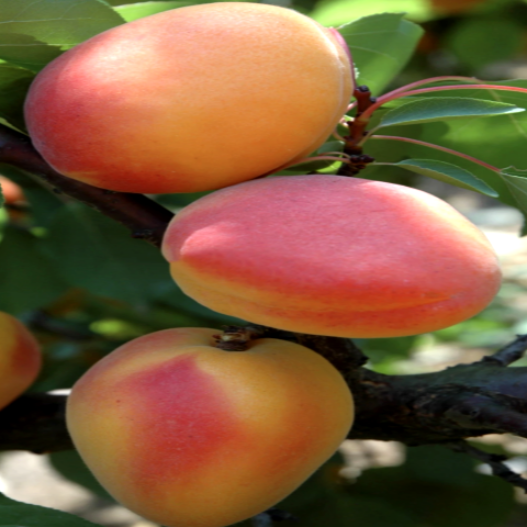mango: (4, 3, 375, 198), (43, 307, 377, 516), (158, 156, 504, 351)
